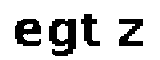e: (9, 17, 44, 51)
g: (47, 14, 80, 60)
t: (79, 9, 103, 50)
z: (114, 16, 148, 50)
